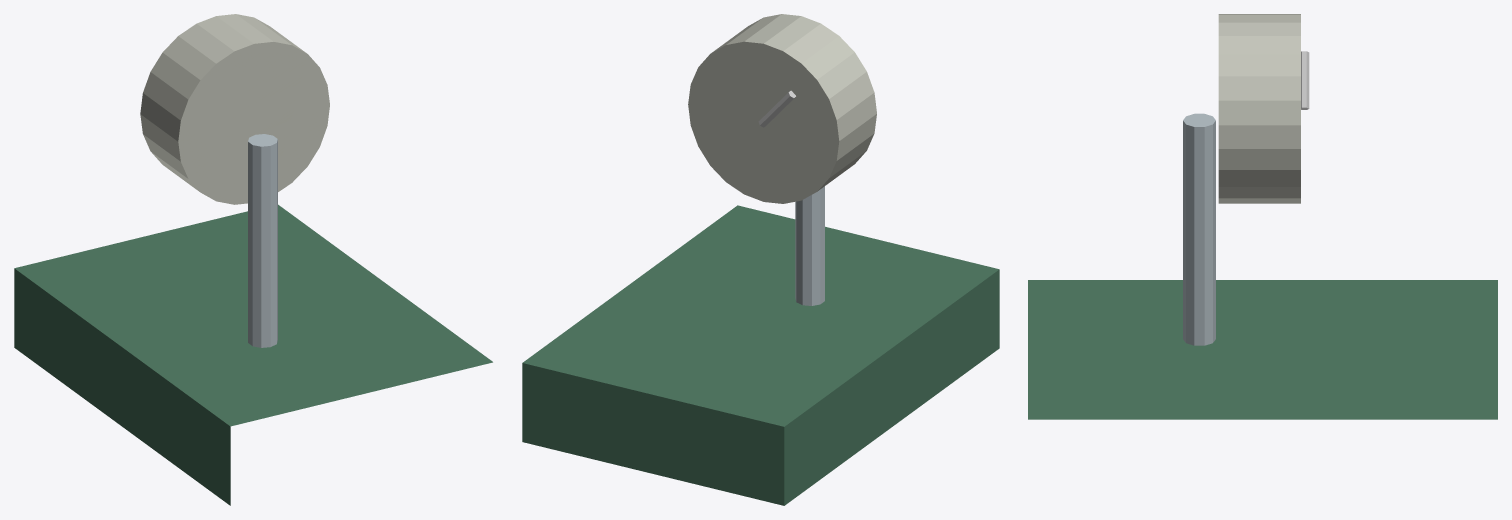
File: cell_12.obj
The picture shows the model from 3 angles, left to right: view 1: azimuth 30°, elevation 25°; view 2: azimuth 150°, elevation 25°; view 3: azimuth 270°, elevation 25°; orthographic projection. The views are drawn at different scales.
Bounding box in the file's own units: 0.52 × 0.7 × 0.74.
